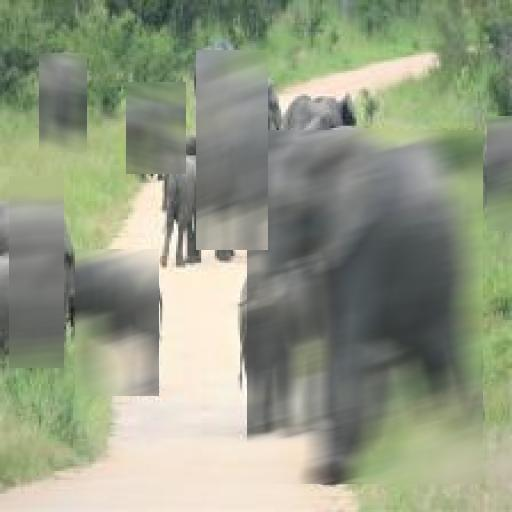Elephant: (247, 130, 483, 484), (196, 50, 268, 250), (75, 249, 159, 396), (9, 176, 64, 368), (126, 82, 186, 174), (39, 53, 87, 152), (487, 116, 512, 231)
